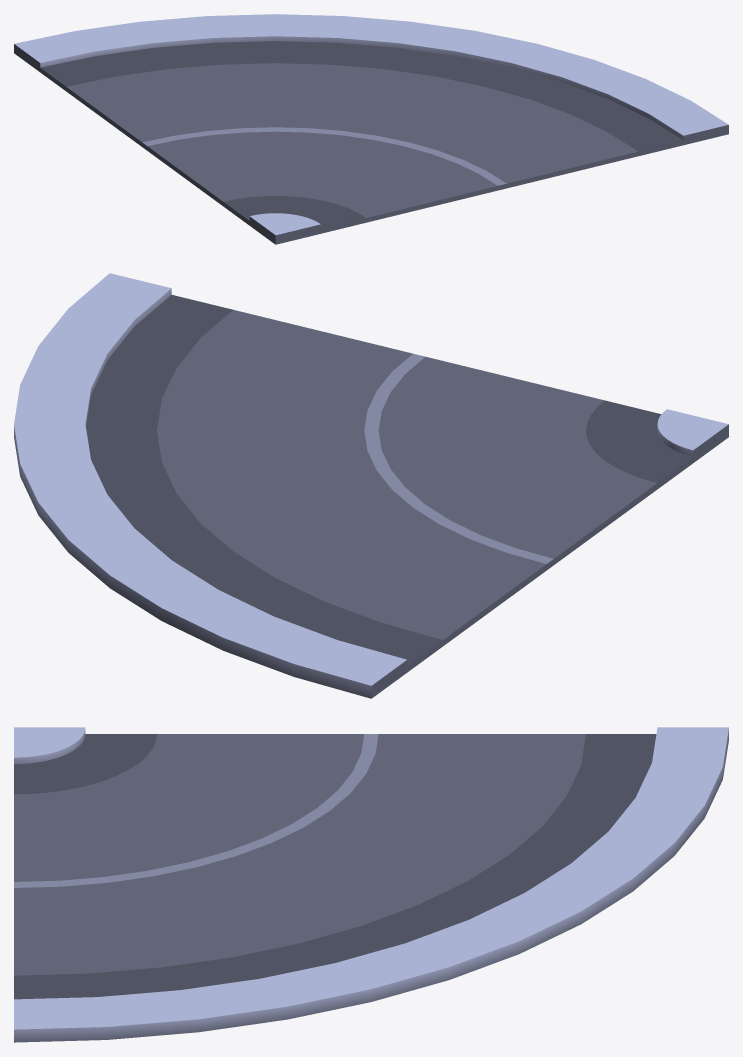
File: road_bend.glb
The picture shows the model from 3 angles, top to bottom: view 1: azimuth 30°, elevation 25°; view 2: azimuth 150°, elevation 25°; view 3: azimuth 270°, elevation 25°; orthographic projection. The views are drawn at different scales.
Visible parts, largest first — view 1: road-bend; view 2: road-bend; view 3: road-bend.
Part boxes in pixels (x1=…): road-bend: x1=14, y1=14, x2=728, y2=244; road-bend: x1=14, y1=273, x2=728, y2=698; road-bend: x1=14, y1=727, x2=728, y2=1042.
Bounding box in the file's own units: 6 × 0.12 × 6.
Materials: 1 (1 with a texture image).
